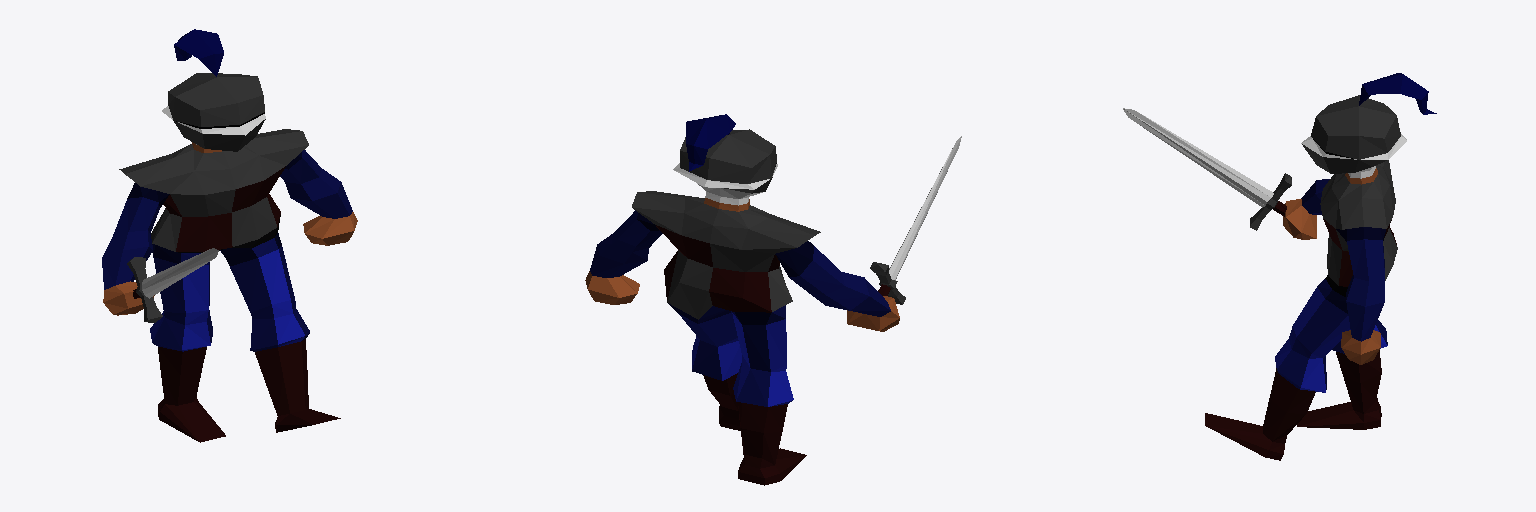
The model's file is Knight_WIP.obj.
3 views of the same model, side by side, from view 1: azimuth 30°, elevation 25°; view 2: azimuth 150°, elevation 25°; view 3: azimuth 270°, elevation 25° (orthographic).
Visible parts, largest first — view 1: Knight, Sword; view 2: Knight, Sword; view 3: Knight, Sword.
Part boxes in pixels (bbox=[...]): Knight: bbox=[102, 29, 357, 442]; Sword: bbox=[127, 248, 218, 322]; Knight: bbox=[585, 114, 899, 485]; Sword: bbox=[870, 136, 961, 304]; Knight: bbox=[1205, 73, 1436, 460]; Sword: bbox=[1123, 108, 1291, 230].
Size of the model in its own units: 1.42 by 1.73 by 1.36.